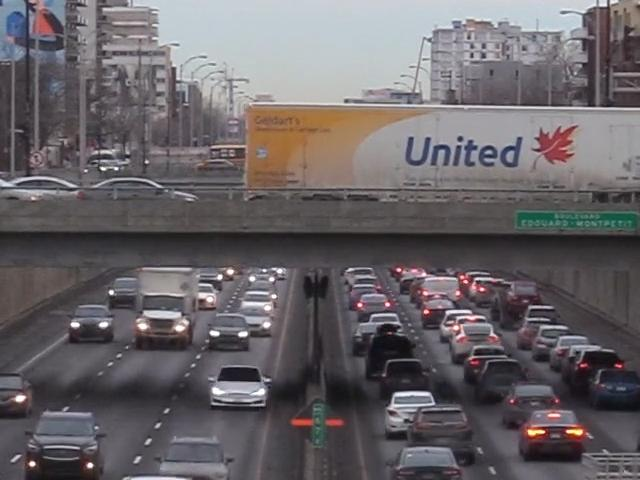car: (30, 408, 105, 477), (517, 408, 587, 464), (412, 403, 476, 461), (162, 435, 241, 480), (205, 365, 276, 414), (363, 328, 418, 387), (566, 345, 625, 397), (500, 384, 564, 431), (383, 392, 441, 440), (378, 356, 436, 403), (469, 358, 524, 406), (390, 445, 465, 480), (65, 301, 118, 346), (589, 368, 640, 410), (204, 314, 256, 352), (447, 326, 497, 365), (546, 333, 592, 375), (0, 370, 36, 417), (527, 323, 570, 362), (352, 319, 395, 357), (519, 305, 559, 341), (240, 285, 281, 320), (465, 275, 509, 307), (237, 304, 277, 339), (416, 294, 456, 328), (437, 269, 477, 300), (364, 312, 407, 340), (106, 275, 141, 308), (410, 266, 452, 292), (506, 281, 541, 312), (354, 291, 393, 318), (343, 265, 379, 289), (245, 269, 279, 293), (392, 265, 428, 287), (195, 283, 222, 311), (196, 269, 224, 291), (401, 264, 430, 282), (218, 264, 240, 281)
truck: (132, 270, 202, 352)
van: (417, 276, 461, 308)
